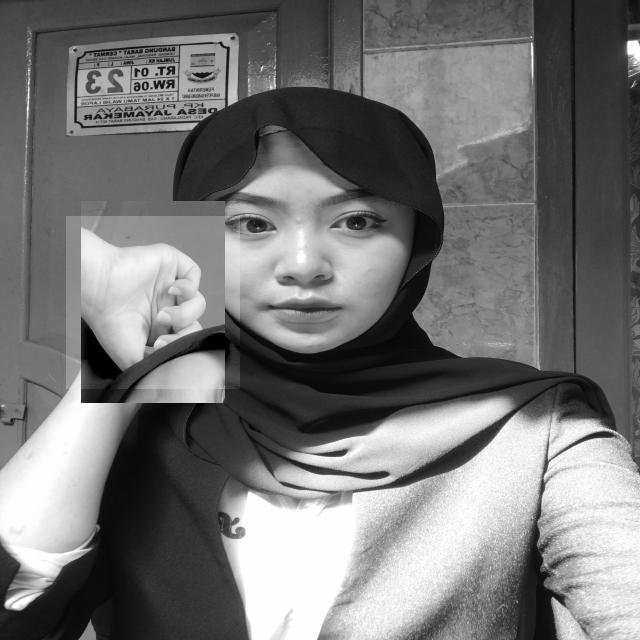ibu: (66, 216, 240, 389)
